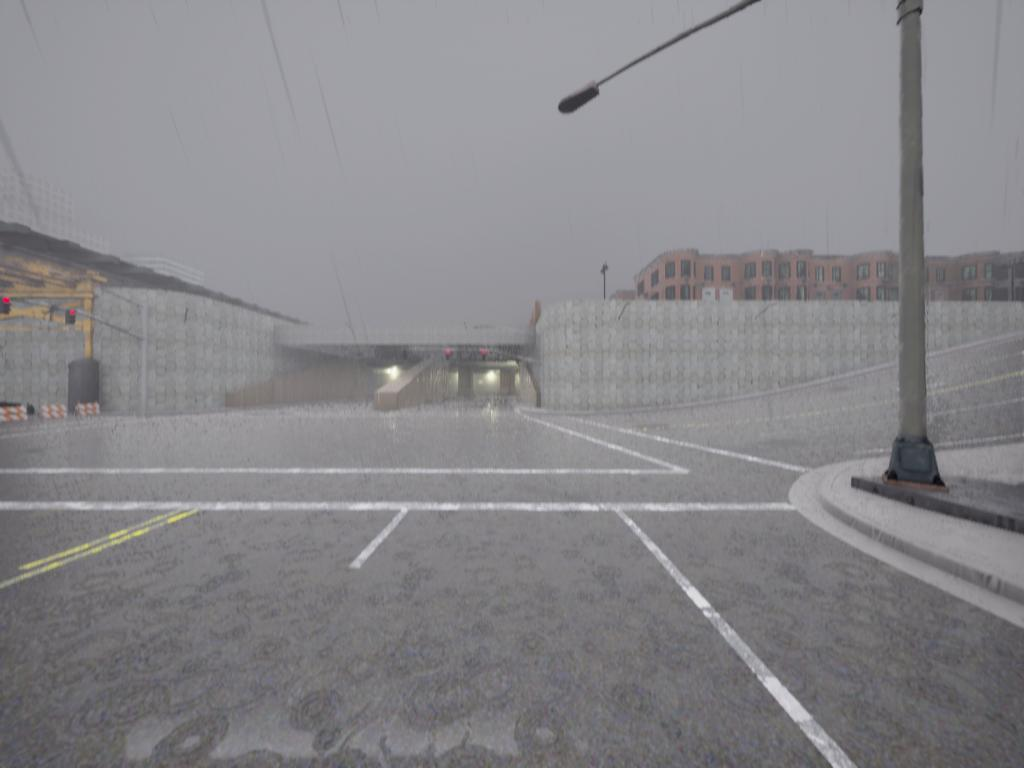traffic_light: (1, 298, 13, 319), (67, 307, 77, 329), (481, 347, 488, 369), (445, 349, 452, 363), (402, 349, 409, 362)
